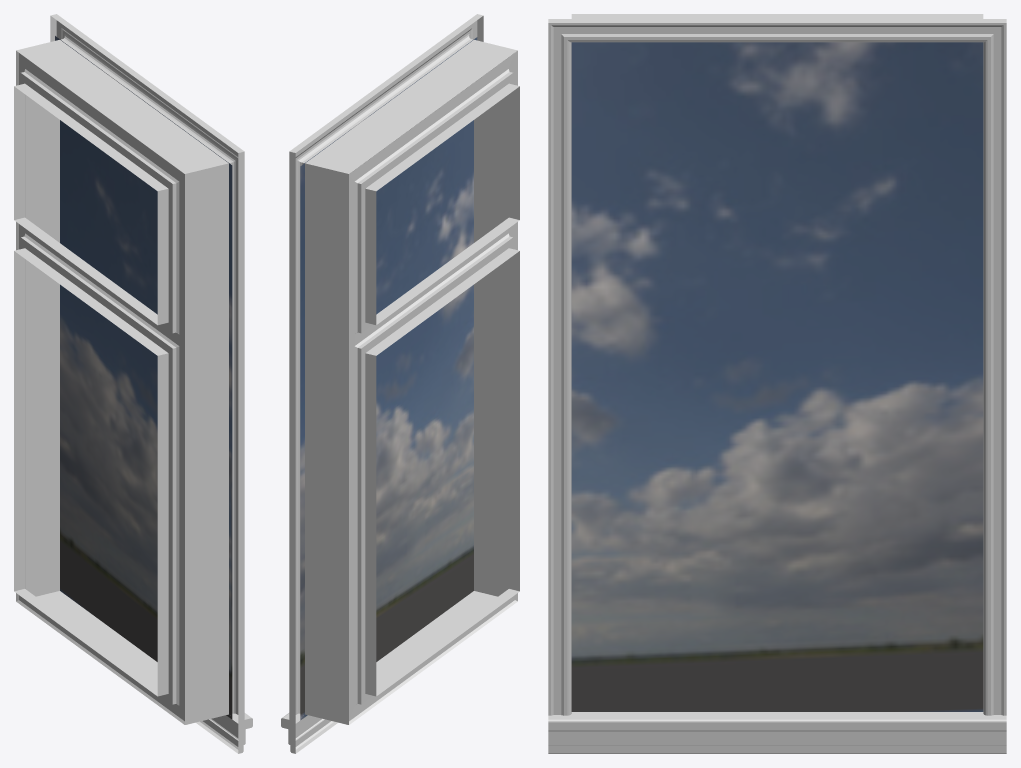
The model's file is okno.glb.
The picture shows the model from 3 angles, left to right: view 1: azimuth 30°, elevation 25°; view 2: azimuth 150°, elevation 25°; view 3: azimuth 270°, elevation 25°; orthographic projection. The views are drawn at different scales.
Visible parts, largest first — view 1: window, Plane; view 2: window, Plane; view 3: Plane, window.
Part boxes in pixels (x1,y1,x2,y2): window: (14, 14, 252, 753); Plane: (55, 36, 232, 719); window: (281, 14, 519, 753); Plane: (300, 37, 477, 720); Plane: (571, 42, 983, 711); window: (548, 14, 1006, 753).
Bounding box in the file's own units: 1 × 7.85 × 4.45.
2 materials, 1 textured.
